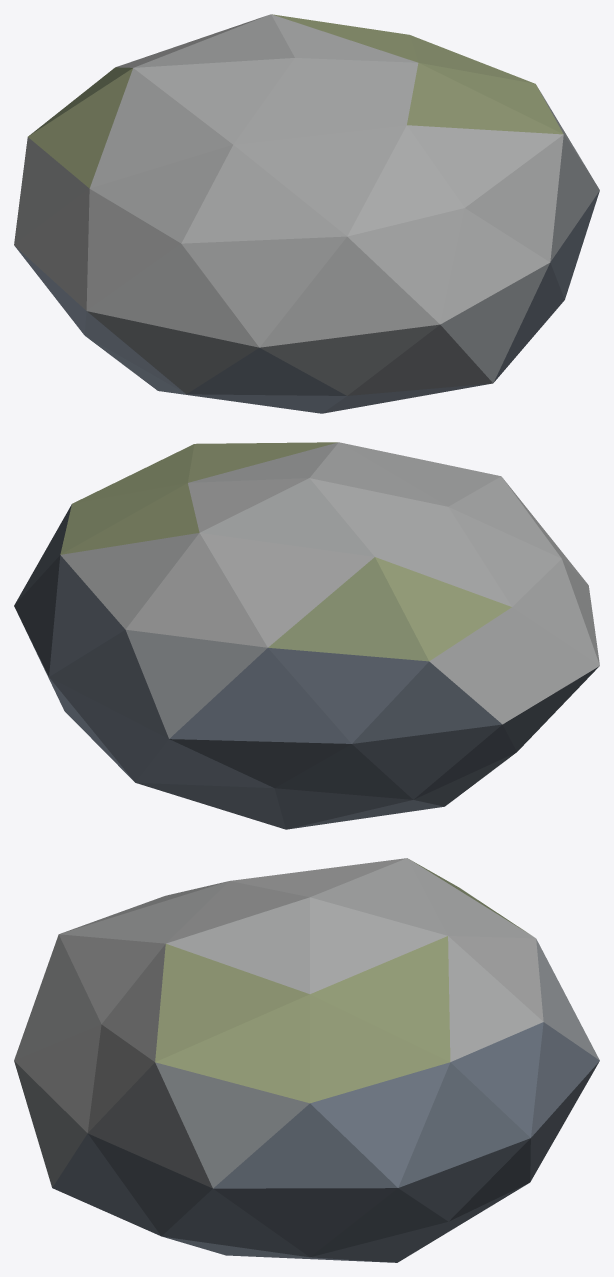
File: boulder_a.glb
3 renders of one model, top to bottom at view 1: azimuth 30°, elevation 25°; view 2: azimuth 150°, elevation 25°; view 3: azimuth 270°, elevation 25°, orthographic. The views are drawn at different scales.
Parts seen in each view (by area): view 1: boulder_a; view 2: boulder_a; view 3: boulder_a.
Part boxes in pixels (x1=…): boulder_a: x1=14, y1=14, x2=599, y2=413; boulder_a: x1=14, y1=442, x2=599, y2=829; boulder_a: x1=14, y1=858, x2=599, y2=1262.
Size of the model in its own units: 1.95 by 1.19 by 1.91.
